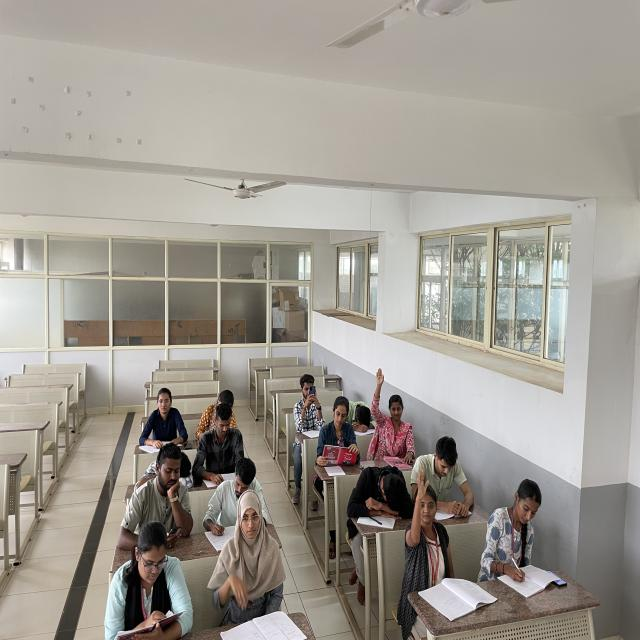Hand Rising: (403, 473, 457, 586), (368, 362, 417, 453)
Reading: (106, 521, 196, 636), (408, 424, 477, 524), (198, 398, 247, 481), (318, 398, 360, 472)
Sleeping: (344, 464, 413, 521), (340, 394, 375, 436)
Using Phone: (121, 447, 200, 554), (280, 364, 328, 449)
Writing: (477, 475, 558, 594), (205, 458, 271, 542)
